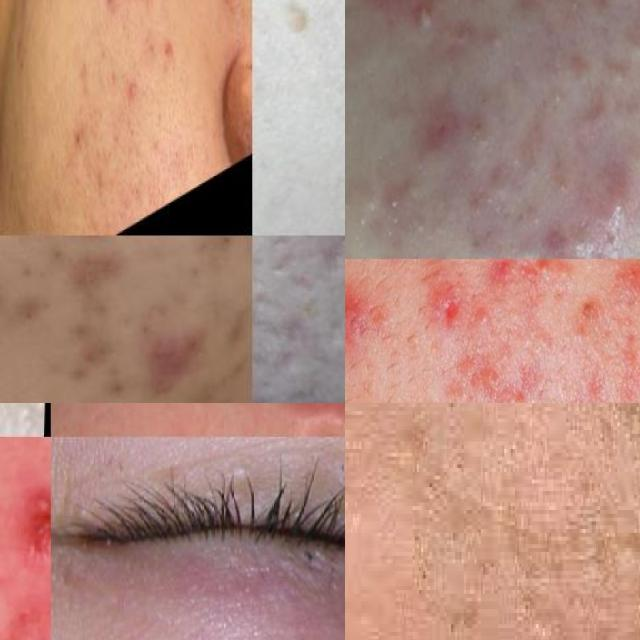acne_scars: (449, 330, 559, 403), (252, 298, 326, 397), (302, 235, 345, 295), (6, 592, 40, 640)
comedone: (408, 510, 442, 628), (221, 75, 252, 157), (464, 292, 504, 350), (538, 74, 576, 118), (519, 259, 562, 295), (443, 8, 475, 56), (4, 256, 43, 289), (68, 115, 89, 165), (515, 225, 545, 259), (47, 240, 75, 272), (345, 49, 355, 106), (615, 245, 640, 259)
flat_wart: (269, 0, 327, 57)
milium: (51, 443, 75, 520)
papule: (118, 315, 231, 403), (583, 140, 640, 243), (345, 277, 399, 359), (416, 98, 462, 161), (596, 50, 636, 93), (126, 71, 142, 115)
pustule: (395, 0, 436, 50)
sebo-crystan-conglo: (20, 463, 50, 559)
syringoma: (207, 441, 268, 499), (298, 436, 345, 500)
